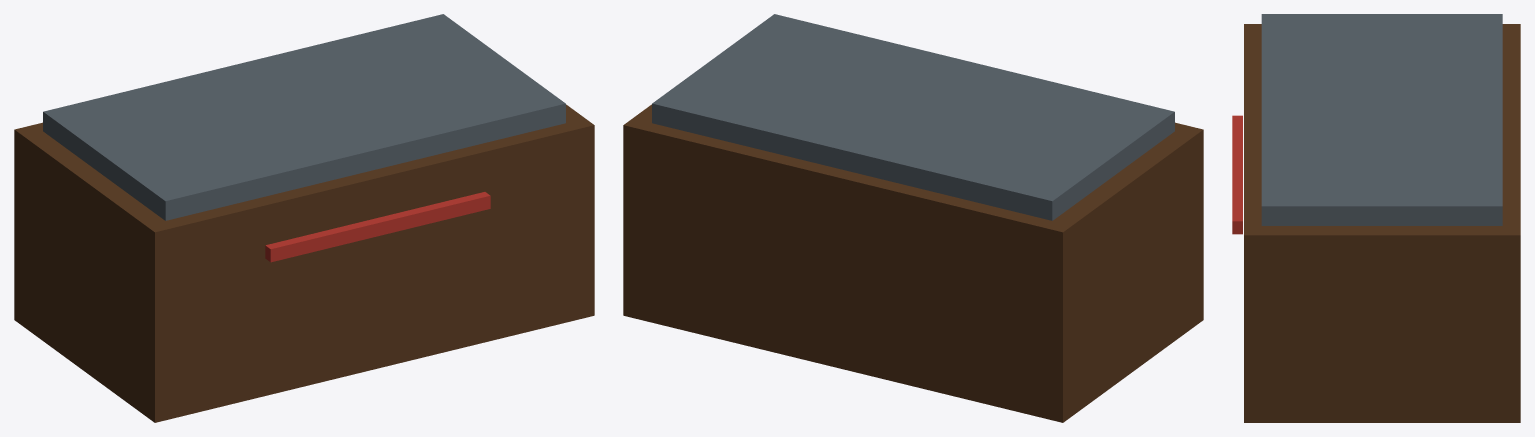
File: cover.pallet_stack.glb
3 views of the same model, side by side, from view 1: azimuth 30°, elevation 25°; view 2: azimuth 150°, elevation 25°; view 3: azimuth 270°, elevation 25° (orthographic).
Visible parts, largest first — view 1: pallets_cover, top_wrap, red_label; view 2: pallets_cover, top_wrap; view 3: pallets_cover, top_wrap, red_label.
Boxes of the visible parts, <box> form: pallets_cover: <box>14,104,594,422</box>; top_wrap: <box>43,14,565,220</box>; red_label: <box>265,192,490,262</box>; pallets_cover: <box>623,104,1203,422</box>; top_wrap: <box>652,14,1174,220</box>; pallets_cover: <box>1244,24,1520,422</box>; top_wrap: <box>1261,14,1502,225</box>; red_label: <box>1232,115,1242,234</box>.
Size of the model in its own units: 2.8 by 1.28 by 1.61.
